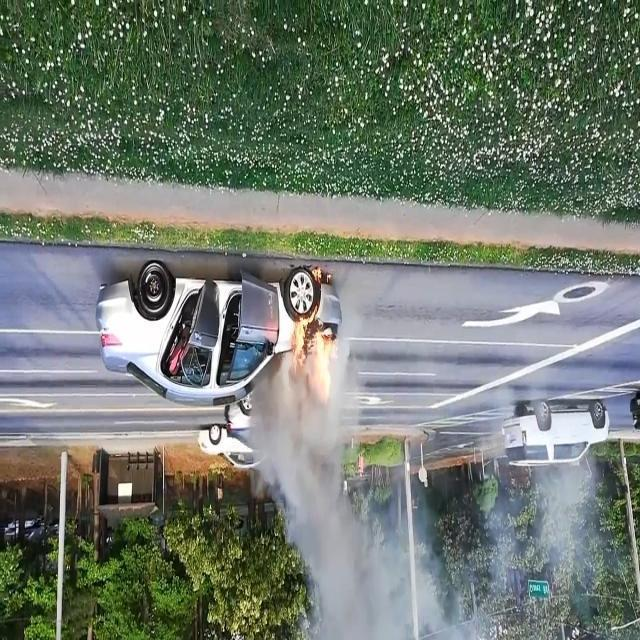fire: (288, 266, 342, 412)
